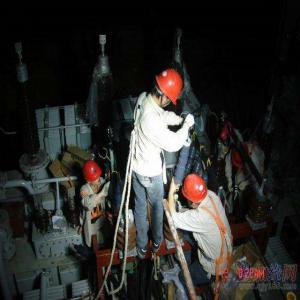red: (154, 66, 182, 108), (183, 174, 209, 208), (82, 159, 103, 189)
